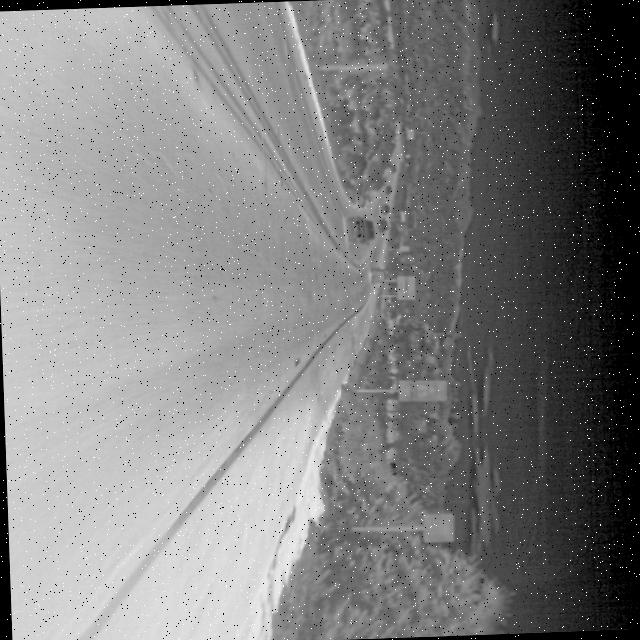Vehicle: (342, 212, 376, 245), (367, 265, 394, 285)
